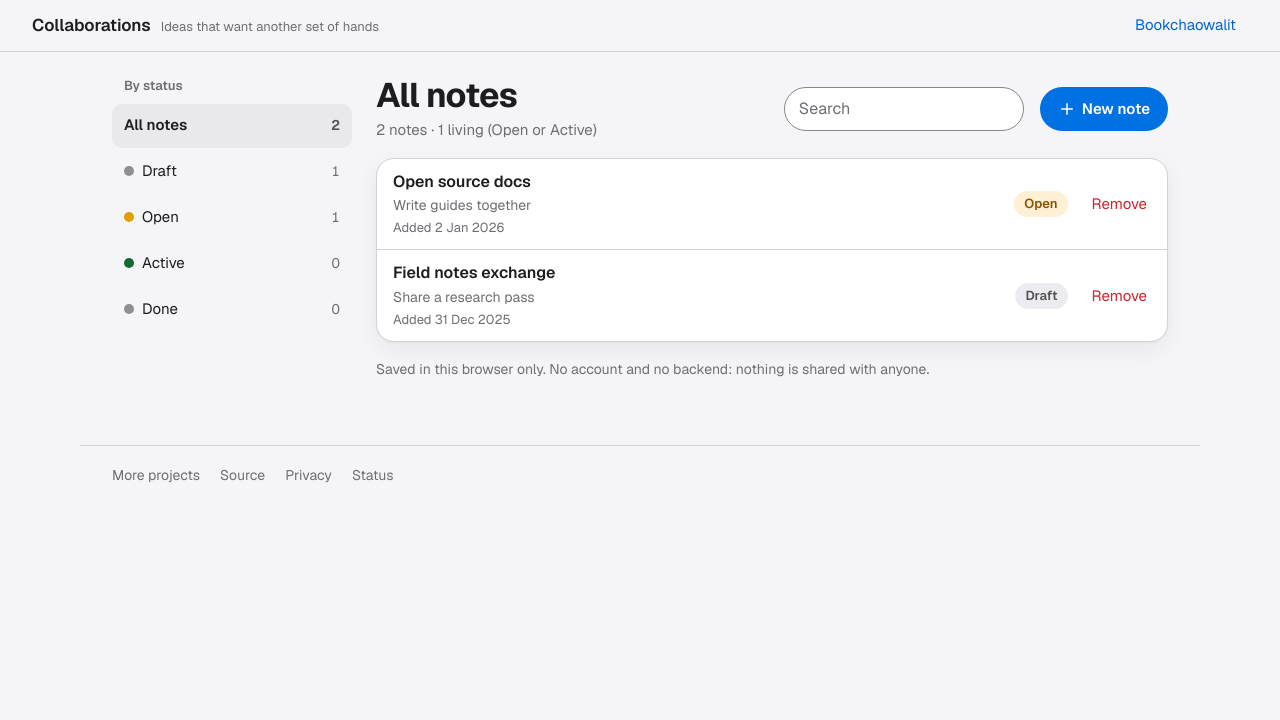
remove and undo › Escape and the timer close the toast; an empty folio says how to start
The image size is (1280, 720).
Click the button with aria-label "Remove Open source docs". click: (1119, 204)
box: top-left (1080, 182), bottom-right (1159, 226)
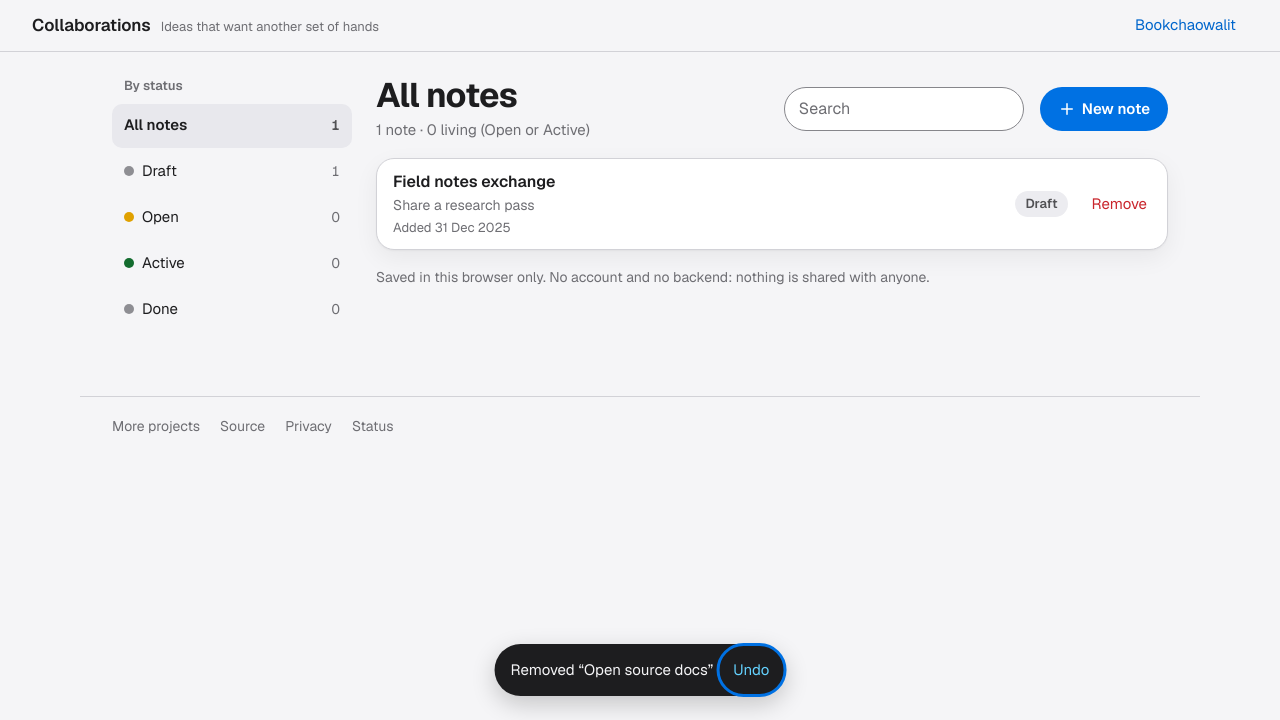
Press Escape in the element with class "as-toast", box top-left (494, 644), bottom-right (785, 696)
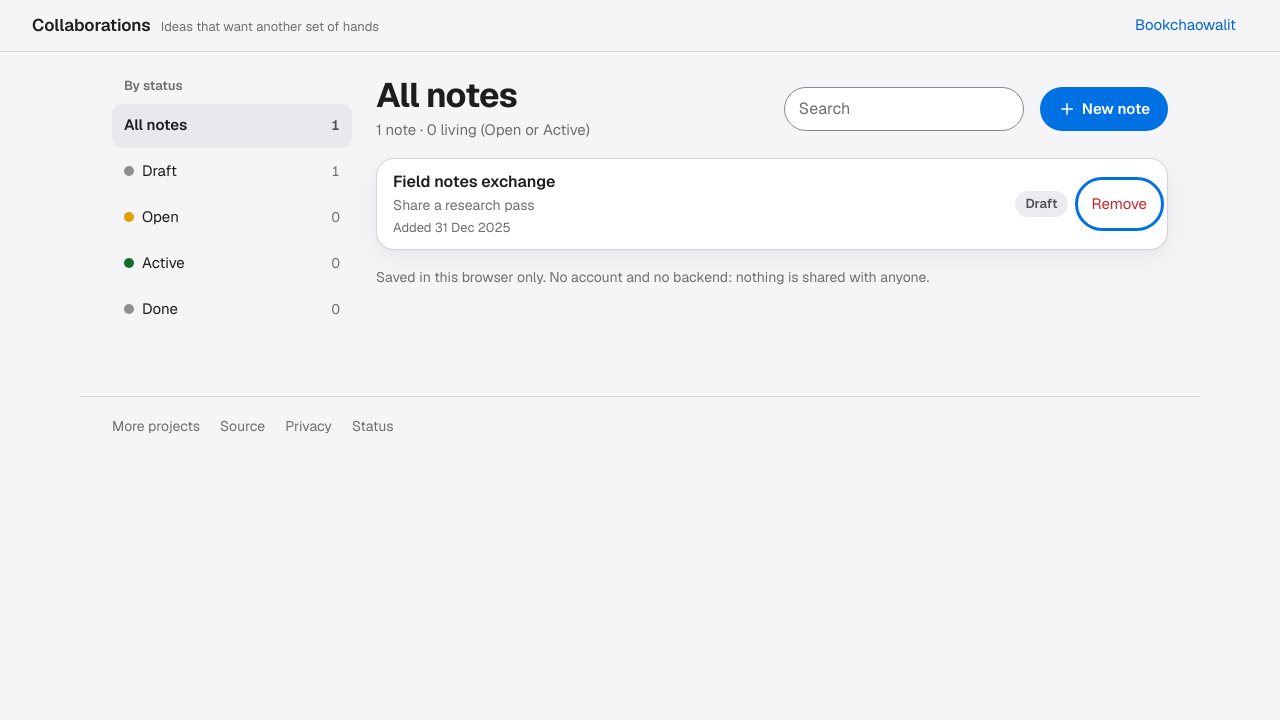
Click the button with class "as-danger". click: (1119, 204)
box: top-left (1080, 182), bottom-right (1159, 226)
Wait 6100 ms
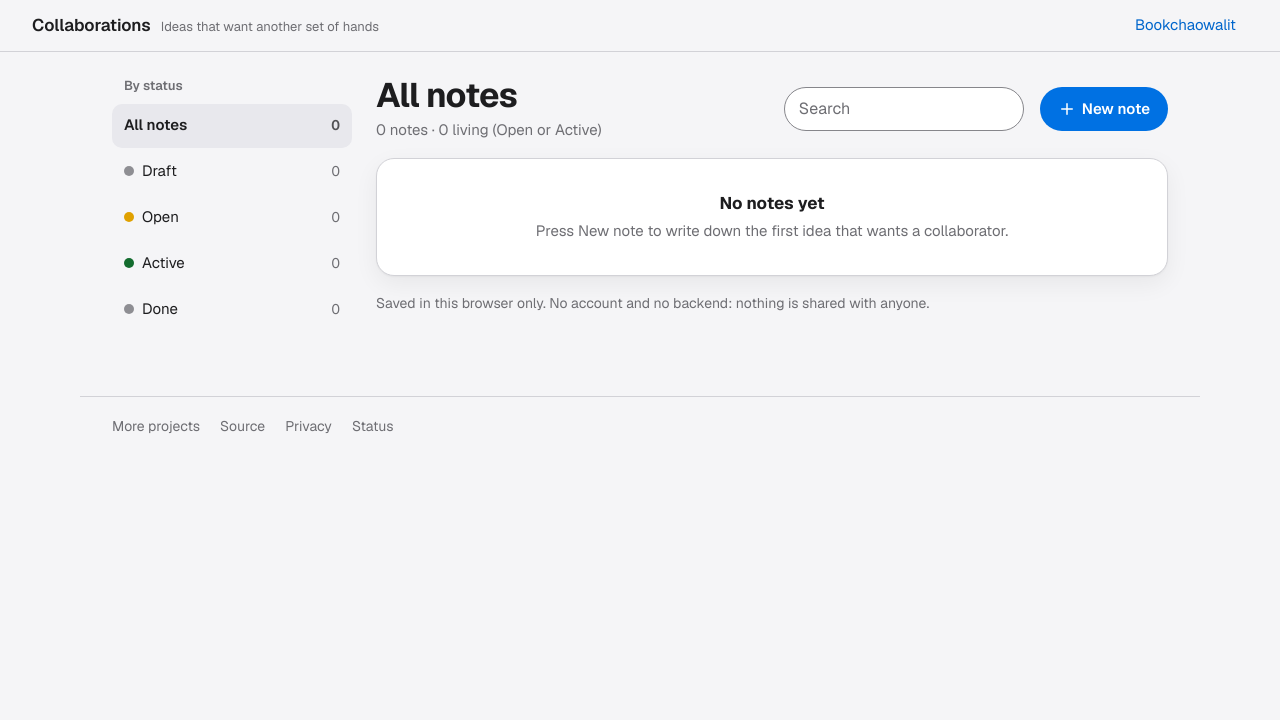
expect the text "No notes yet" is shown: met, box top-left (720, 192), bottom-right (825, 214)
